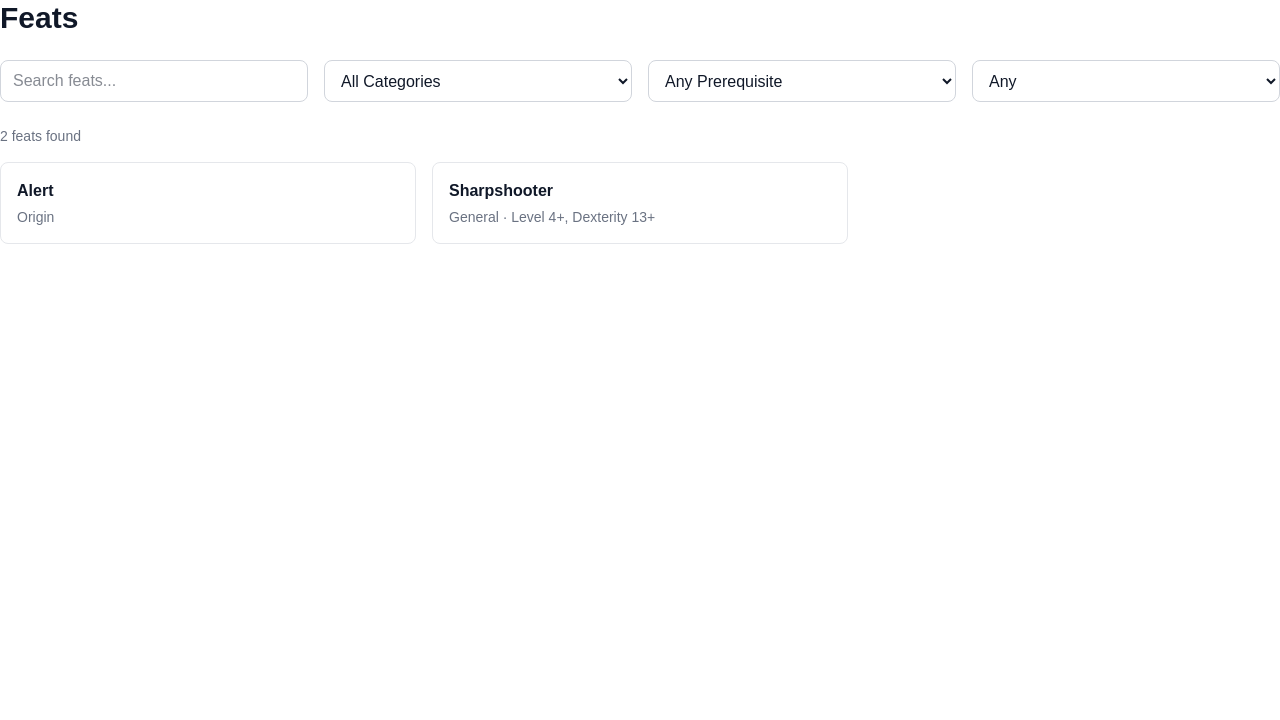
it: FeatListPage › detail modal › renders the Repeatable badge when set
The width and height of the screenshot is (1280, 720).
Click the button "Alert Origin" at (35, 190), box left=0, top=162, right=416, bottom=244
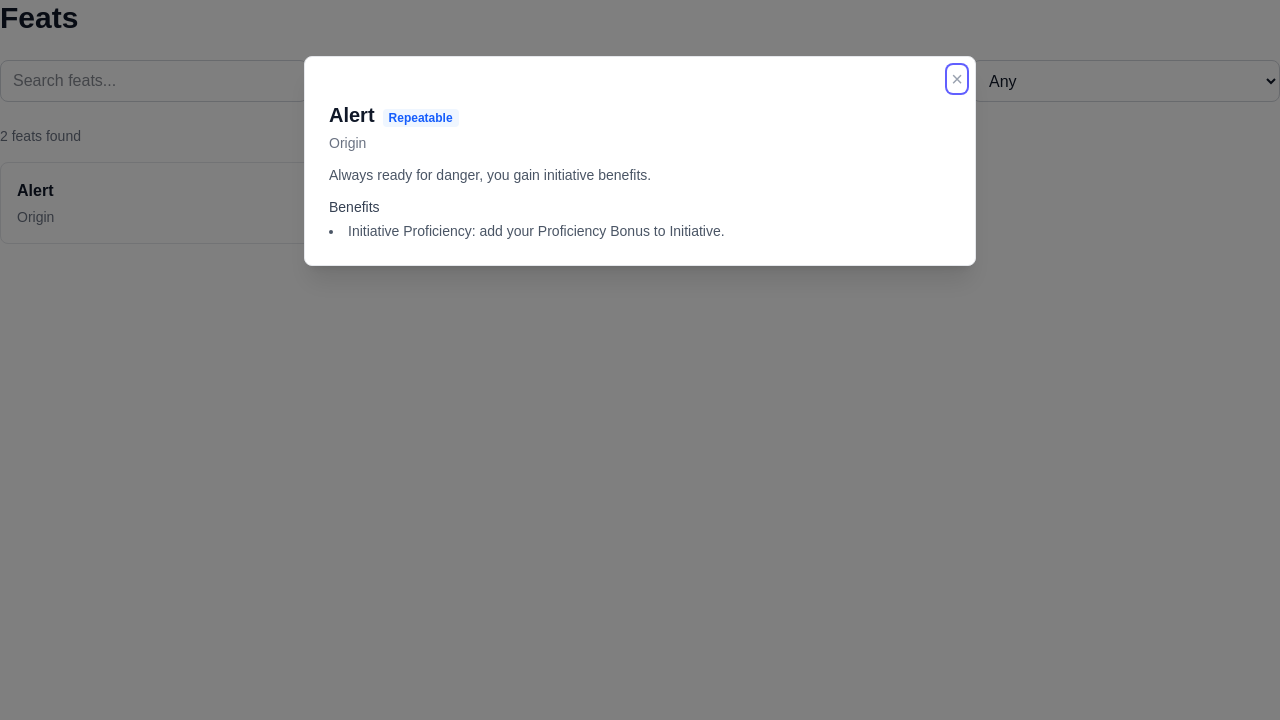
Expected: the text "Repeatable" is shown, left=383, top=109, right=459, bottom=127
